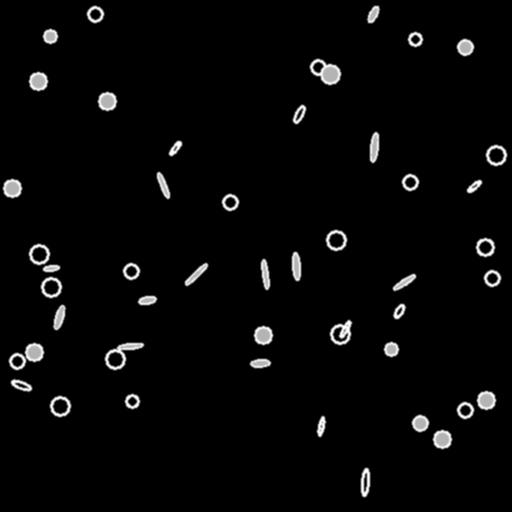pseudomonas: (184, 262, 208, 286), (392, 273, 416, 291), (156, 172, 170, 198), (52, 304, 66, 330), (10, 378, 32, 392), (369, 133, 379, 161), (292, 104, 306, 124), (366, 5, 380, 23), (261, 259, 269, 289), (392, 303, 406, 319), (466, 179, 482, 193), (361, 468, 369, 496), (168, 140, 182, 156), (339, 320, 351, 338), (292, 253, 300, 279), (118, 342, 142, 350), (250, 359, 270, 367), (139, 295, 155, 305), (317, 417, 325, 435), (43, 265, 59, 271)
synechocystis: (331, 325, 349, 343), (30, 245, 48, 263), (106, 350, 124, 368), (321, 65, 339, 83), (327, 231, 345, 249), (51, 397, 69, 415), (487, 146, 505, 164), (42, 278, 60, 296), (30, 73, 46, 89), (434, 431, 450, 447), (478, 392, 494, 408), (4, 180, 20, 196), (255, 327, 271, 343), (99, 93, 115, 109), (26, 344, 42, 360), (477, 239, 493, 255), (10, 354, 24, 368), (485, 271, 499, 285), (458, 403, 472, 417), (413, 416, 427, 430), (311, 60, 325, 74), (458, 40, 472, 54), (223, 195, 237, 209), (124, 264, 138, 278), (88, 7, 102, 21), (403, 175, 417, 189), (409, 33, 421, 45), (126, 395, 138, 407), (385, 343, 397, 355), (44, 30, 56, 42)
